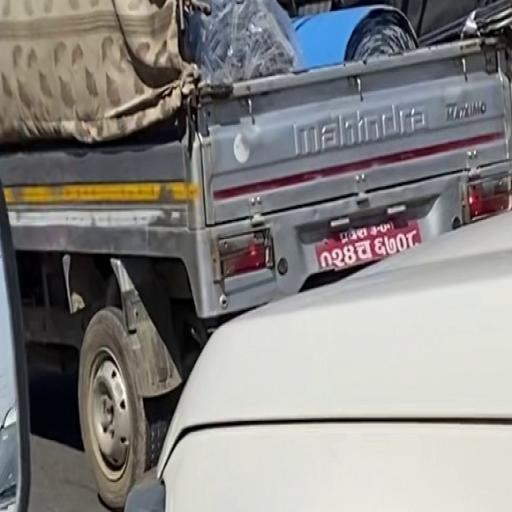license_plate: (312, 211, 423, 275)
